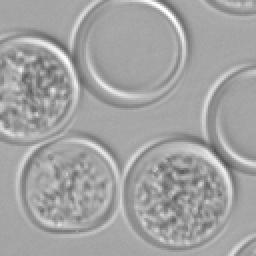picoshell: (68, 0, 186, 106), (120, 138, 232, 248), (14, 132, 118, 236), (0, 34, 78, 142), (200, 64, 254, 172), (198, 0, 254, 18), (228, 232, 254, 254)
